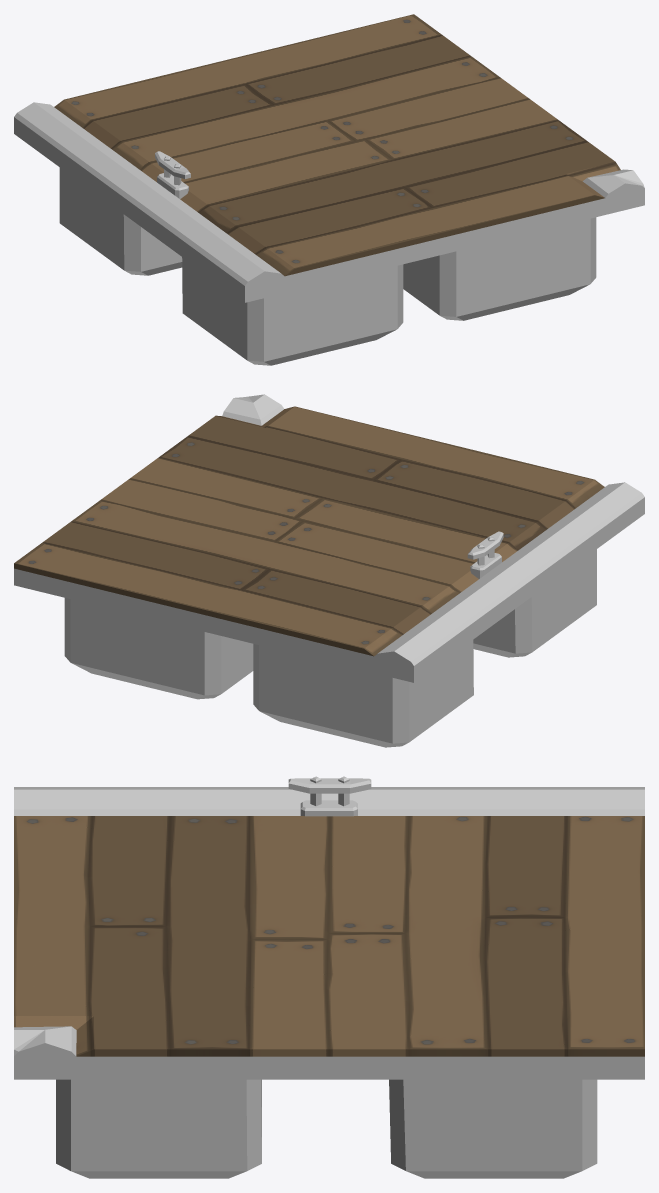
The model's file is SM_Bld_Dock_Platform_T_01_Alt_01.fbx.
3 renders of one model, top to bottom at view 1: azimuth 30°, elevation 25°; view 2: azimuth 150°, elevation 25°; view 3: azimuth 270°, elevation 25°, orthographic. The views are drawn at different scales.
Parts seen in each view (by area): view 1: SM_Bld_Dock_Platform_T_01_Alt_01; view 2: SM_Bld_Dock_Platform_T_01_Alt_01; view 3: SM_Bld_Dock_Platform_T_01_Alt_01.
Boxes of the visible parts, x1,y1,x2,y2 form: SM_Bld_Dock_Platform_T_01_Alt_01: [14, 14, 644, 365]; SM_Bld_Dock_Platform_T_01_Alt_01: [14, 394, 644, 747]; SM_Bld_Dock_Platform_T_01_Alt_01: [14, 776, 644, 1178].
Size of the model in its own units: 250 by 83.51 by 250.
